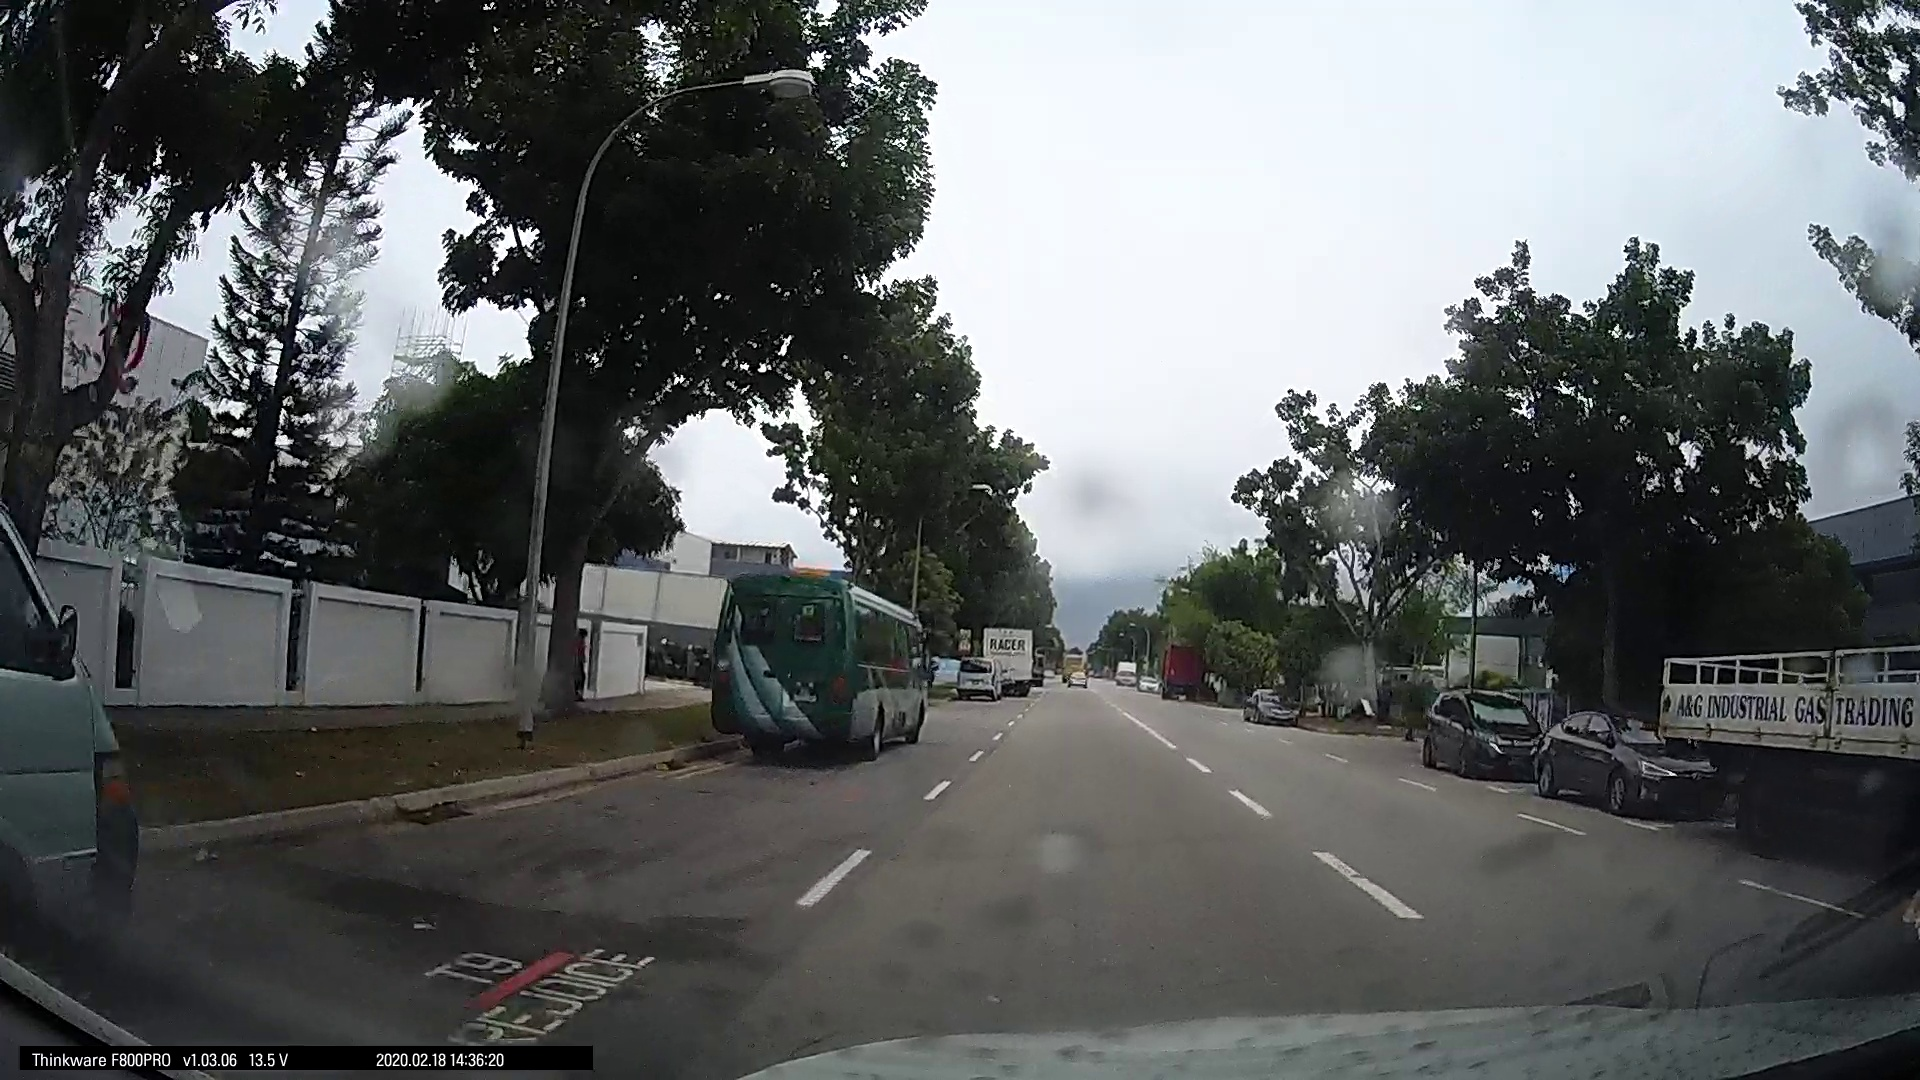Heavy Vehicle: (705, 568, 927, 761), (973, 625, 1036, 695)
Light Vehicle: (1528, 699, 1708, 814), (1415, 683, 1542, 778), (1245, 684, 1298, 725)
